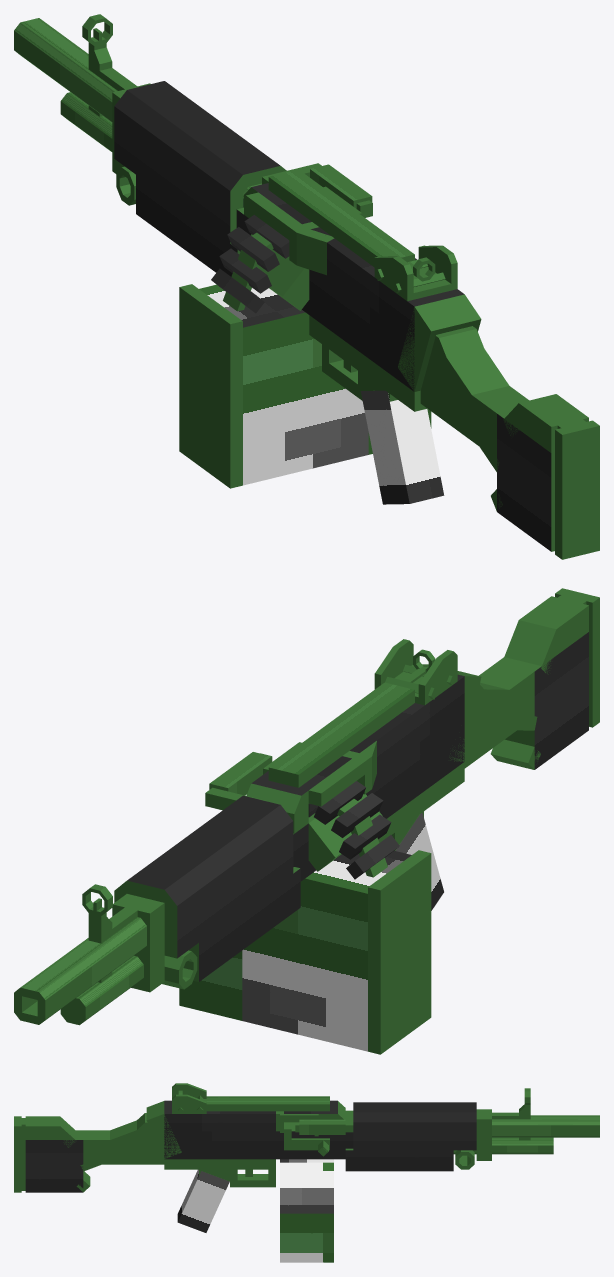
Rendered from mteg_m249.glb.
The picture shows the model from 3 angles, top to bottom: view 1: azimuth 30°, elevation 25°; view 2: azimuth 150°, elevation 25°; view 3: azimuth 270°, elevation 25°; orthographic projection. The views are drawn at different scales.
Parts seen in each view (by area): view 1: Gun; view 2: Gun; view 3: Gun.
Part boxes in pixels (x1,y1,x2,y2): Gun: (14,14,599,559); Gun: (14,588,599,1054); Gun: (14,1083,599,1262).
Size of the model in its own units: 0.5 by 0.6563 by 2.38.
Materials: 1 (1 with a texture image).
